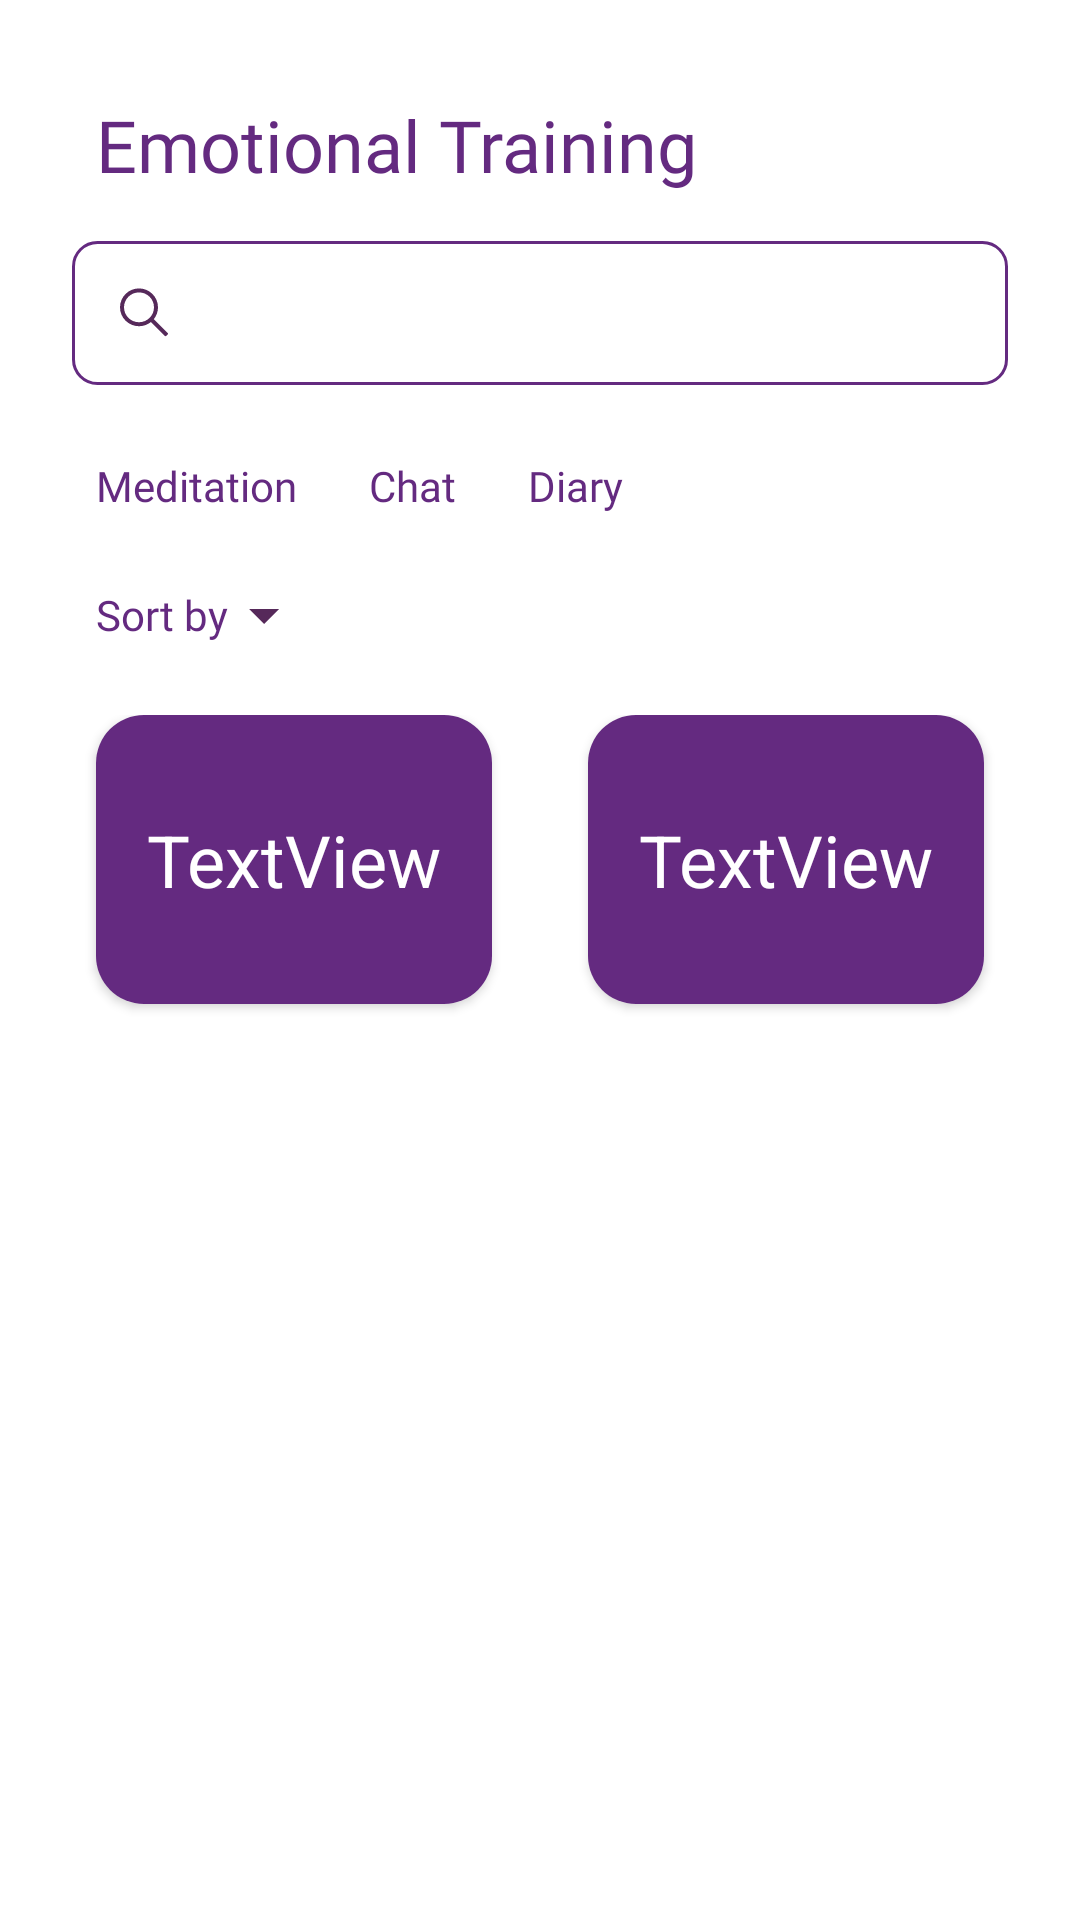

Icon bounding boxes for this 1080 × 1920 phone screenshot, format (x1, y1, x2, y2):
arrow drop down: (249, 609, 279, 624)
